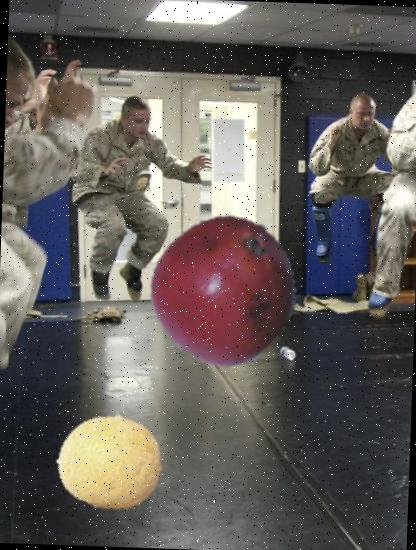Cantaloupe: (54, 406, 164, 516)
Pomegranate: (148, 212, 303, 367)
